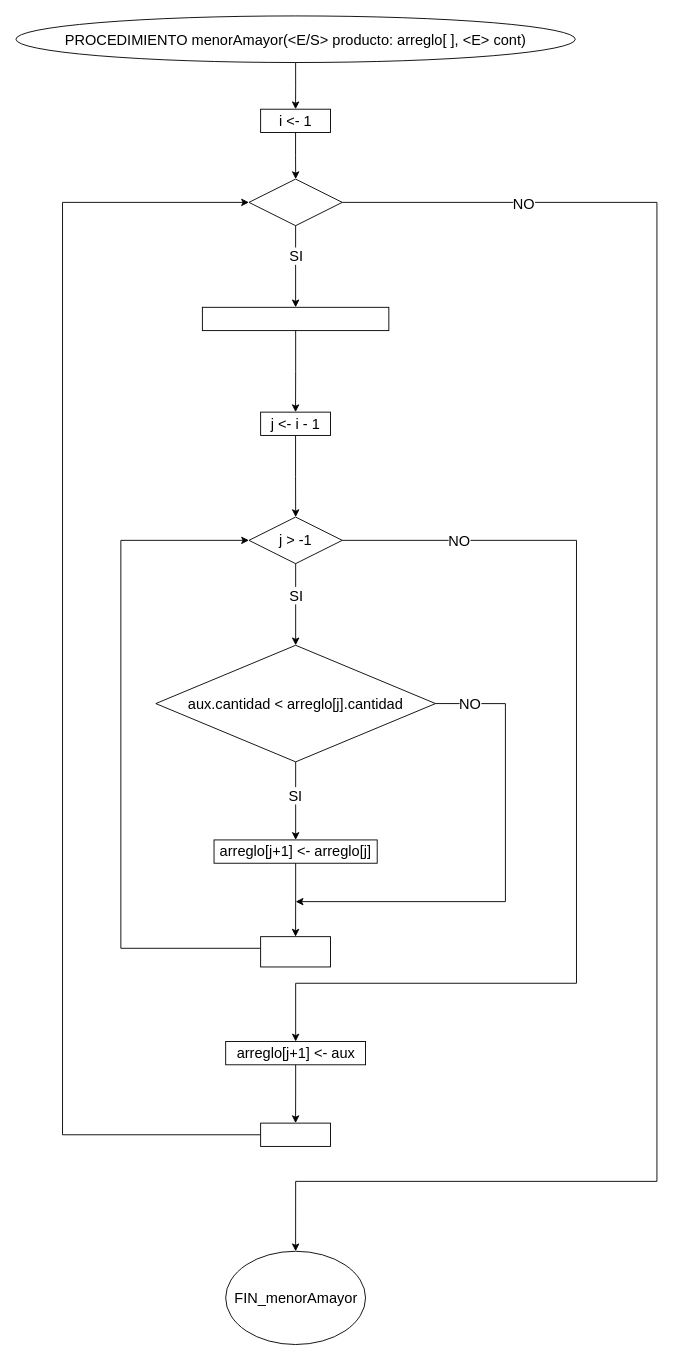
Image size: 681x1360. Some labels were removed from this diagram. Each missing label, with the centre of its shape:
i < cont: pixel 295 202
i <- i + 1: pixel 295 1134
j <- j-1: pixel 295 951
producto: aux <- arreglo[i]: pixel 295 318
